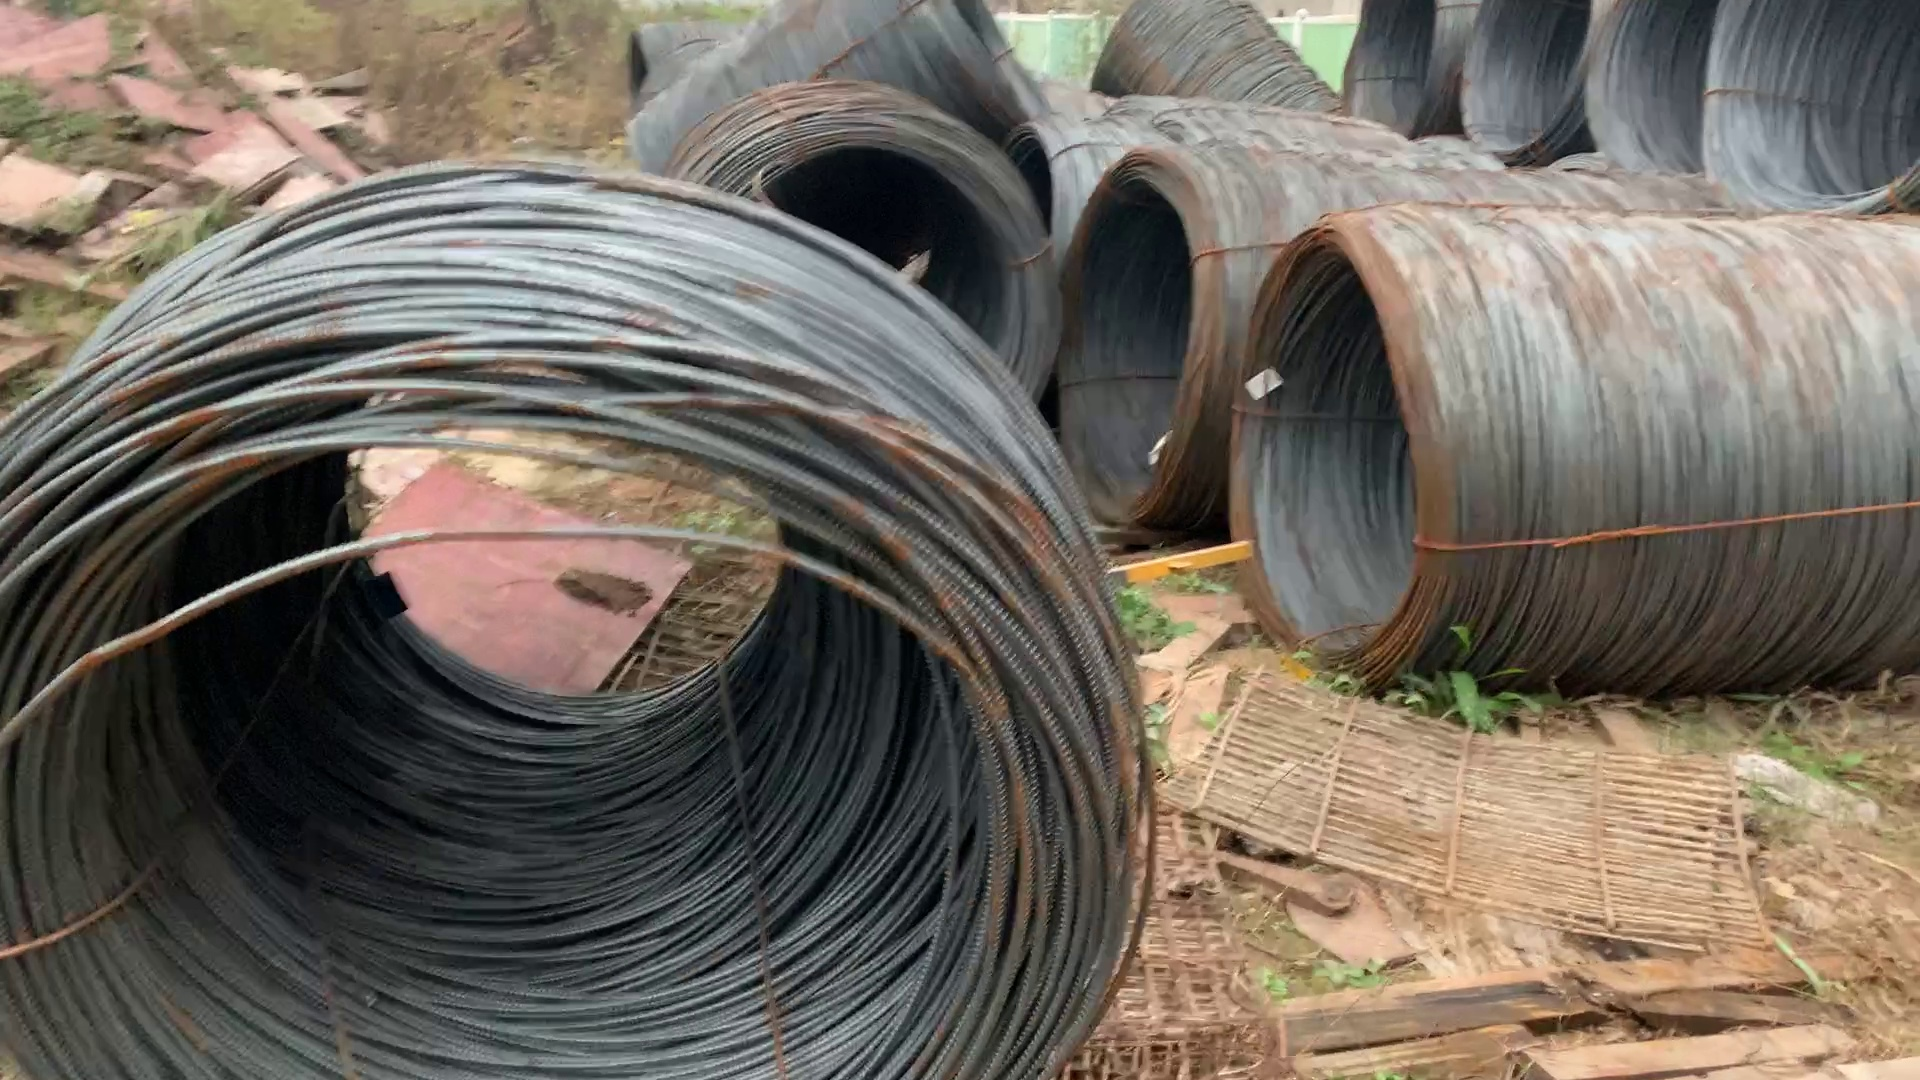coil: (15, 363, 1143, 1063), (690, 129, 1068, 440), (1224, 232, 1457, 666), (1079, 149, 1215, 527), (1708, 1, 1902, 229), (951, 1, 1085, 199), (1589, 1, 1716, 189), (1457, 1, 1593, 157), (1338, 3, 1440, 154), (611, 26, 669, 129)
